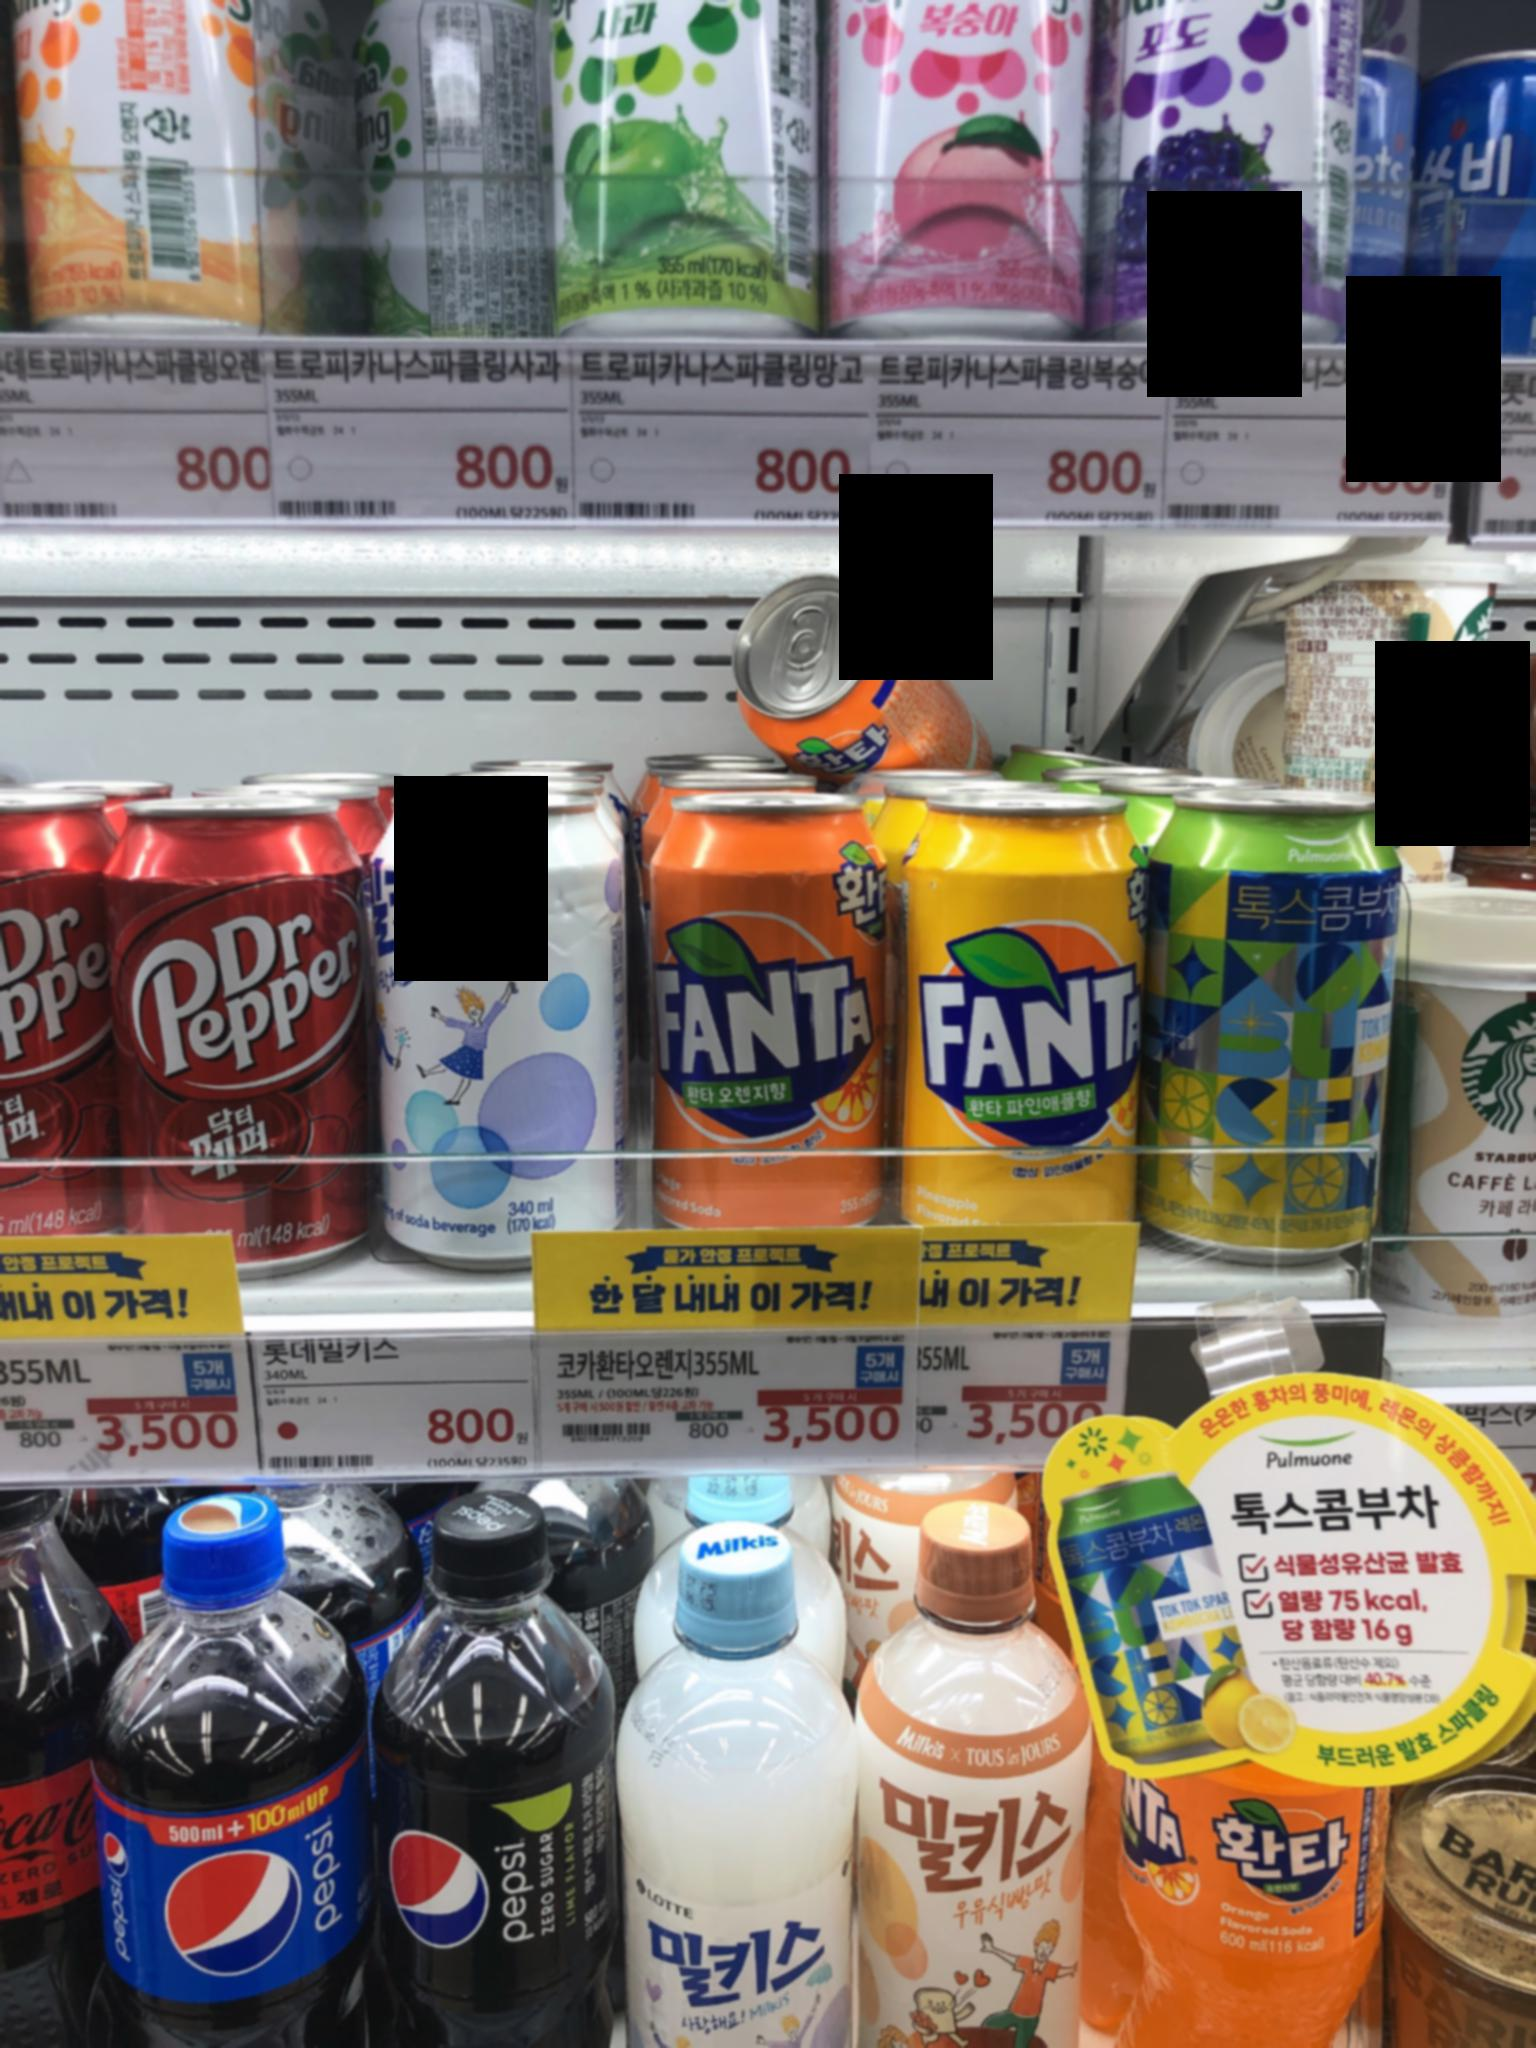fanta_orange: (657, 718, 881, 1213)
